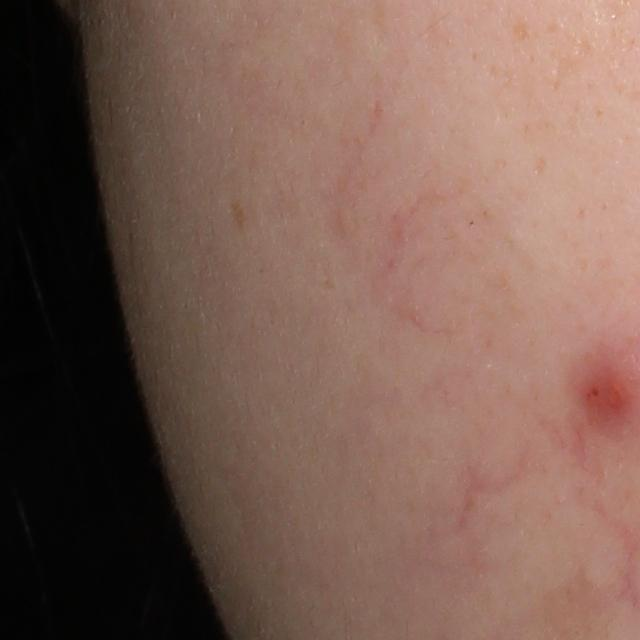other: (324, 98, 485, 342), (432, 423, 545, 544)
papule: (592, 368, 639, 414)
